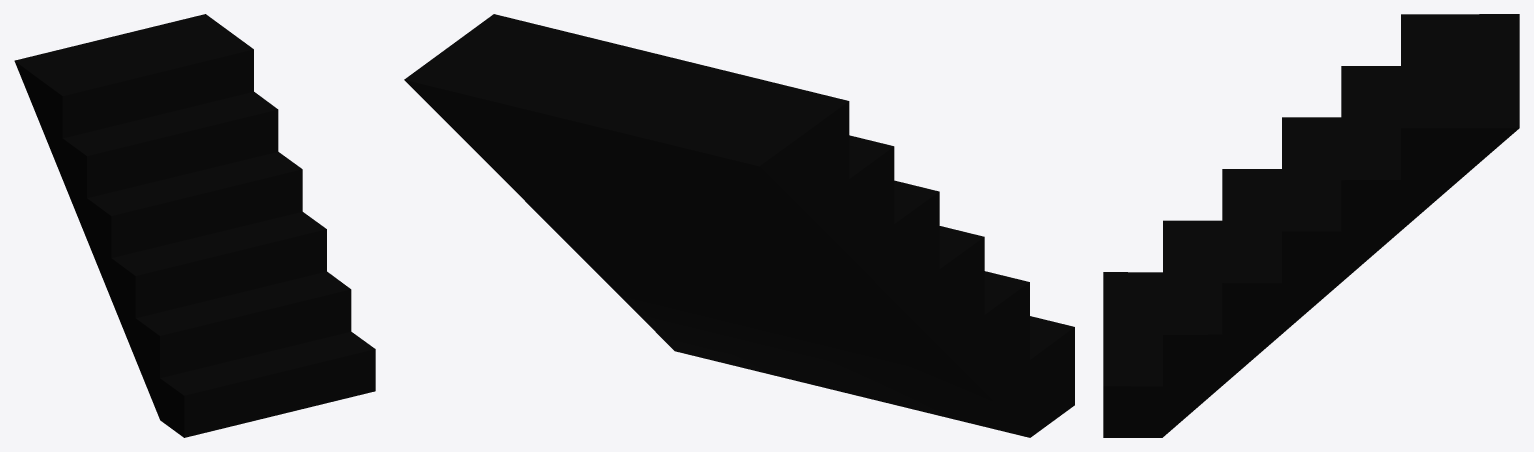
Rendered from 341ae932-d3ab-43c9-9271-cde9448da63e.glb.
3 views of the same model, side by side, from view 1: azimuth 30°, elevation 25°; view 2: azimuth 150°, elevation 25°; view 3: azimuth 270°, elevation 25° (orthographic). The views are drawn at different scales.
Visible parts, largest first — view 1: BaseStairs.008; view 2: BaseStairs.008; view 3: BaseStairs.008.
Part boxes in pixels (x1,y1,x2,y2): BaseStairs.008: (14,14,375,437); BaseStairs.008: (404,14,1074,437); BaseStairs.008: (1103,14,1519,437).
Size of what is drawn, in the model's own units: 1.36 by 1.71 by 2.09.
Materials: 1 (1 with a texture image).
